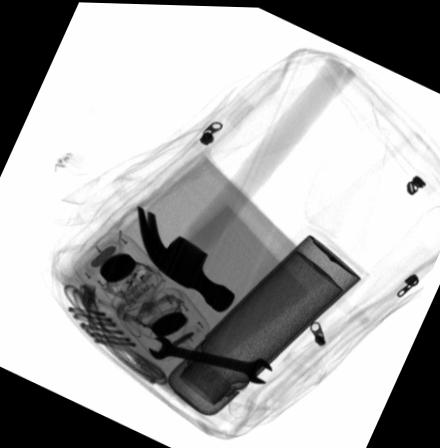Hammer: (136, 52, 357, 311)
Wrench: (148, 336, 271, 382)
